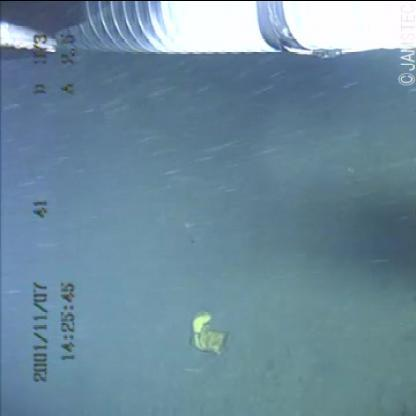Rov: (1, 1, 415, 62)
Rác: (187, 305, 231, 361)
